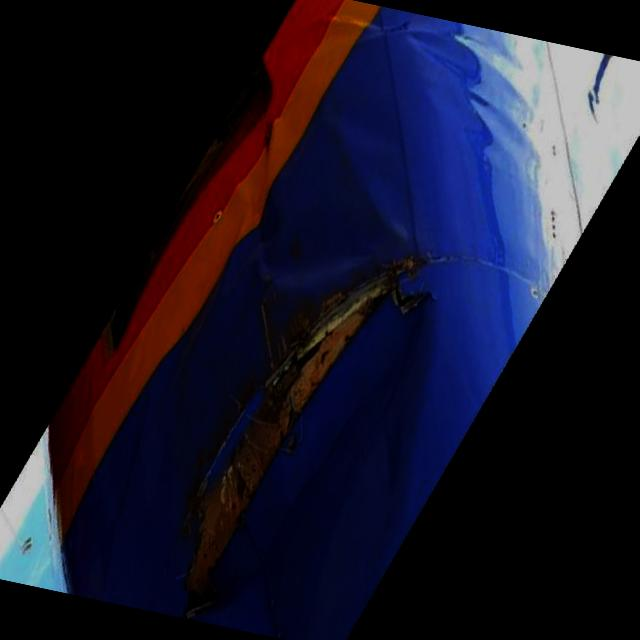crack: (156, 201, 450, 640)
